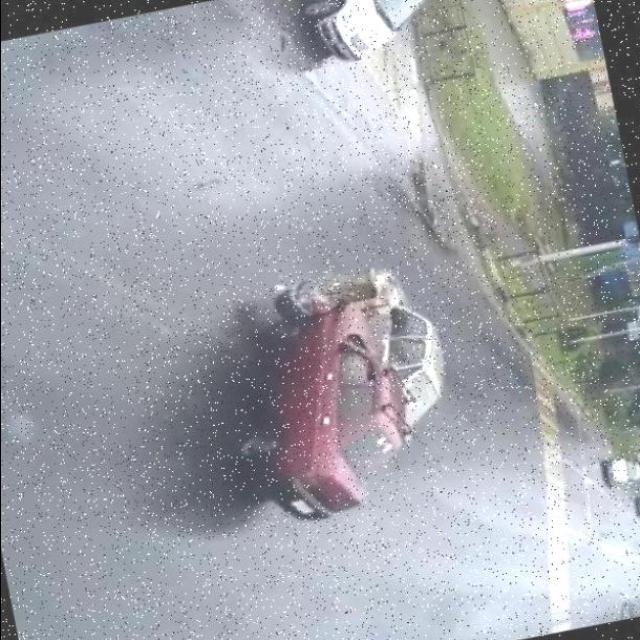accident: (270, 255, 458, 442)
